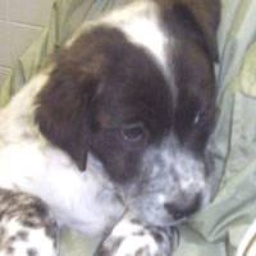dog: (7, 10, 227, 248)
